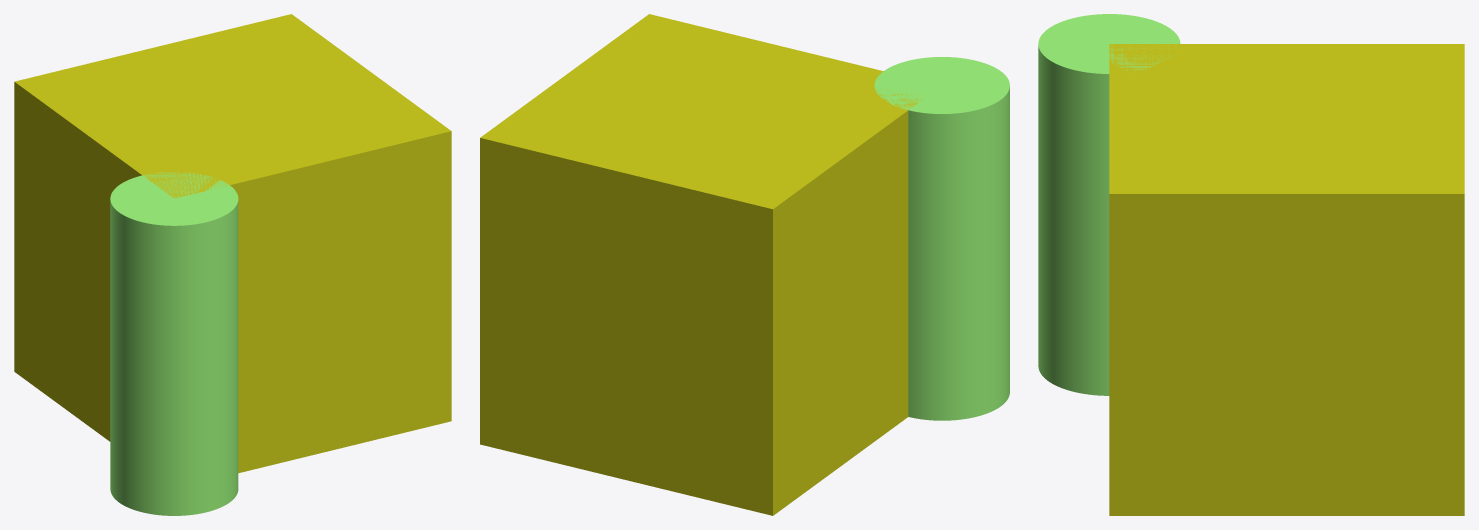
The picture shows the model from 3 angles, left to right: view 1: azimuth 30°, elevation 25°; view 2: azimuth 150°, elevation 25°; view 3: azimuth 270°, elevation 25°; orthographic projection. The views are drawn at different scales.
Visible parts, largest first — view 1: Cube, Cylinder; view 2: Cube, Cylinder; view 3: Cube, Cylinder.
Part boxes in pixels (box(x1,y1,x2,y2)): Cube: box(14, 14, 451, 473); Cylinder: box(110, 171, 238, 515); Cube: box(480, 14, 921, 515); Cylinder: box(874, 57, 1009, 420); Cube: box(1109, 44, 1464, 515); Cylinder: box(1038, 14, 1180, 395).
Bounding box in the file's own units: 0.012 × 0.01 × 0.012.
